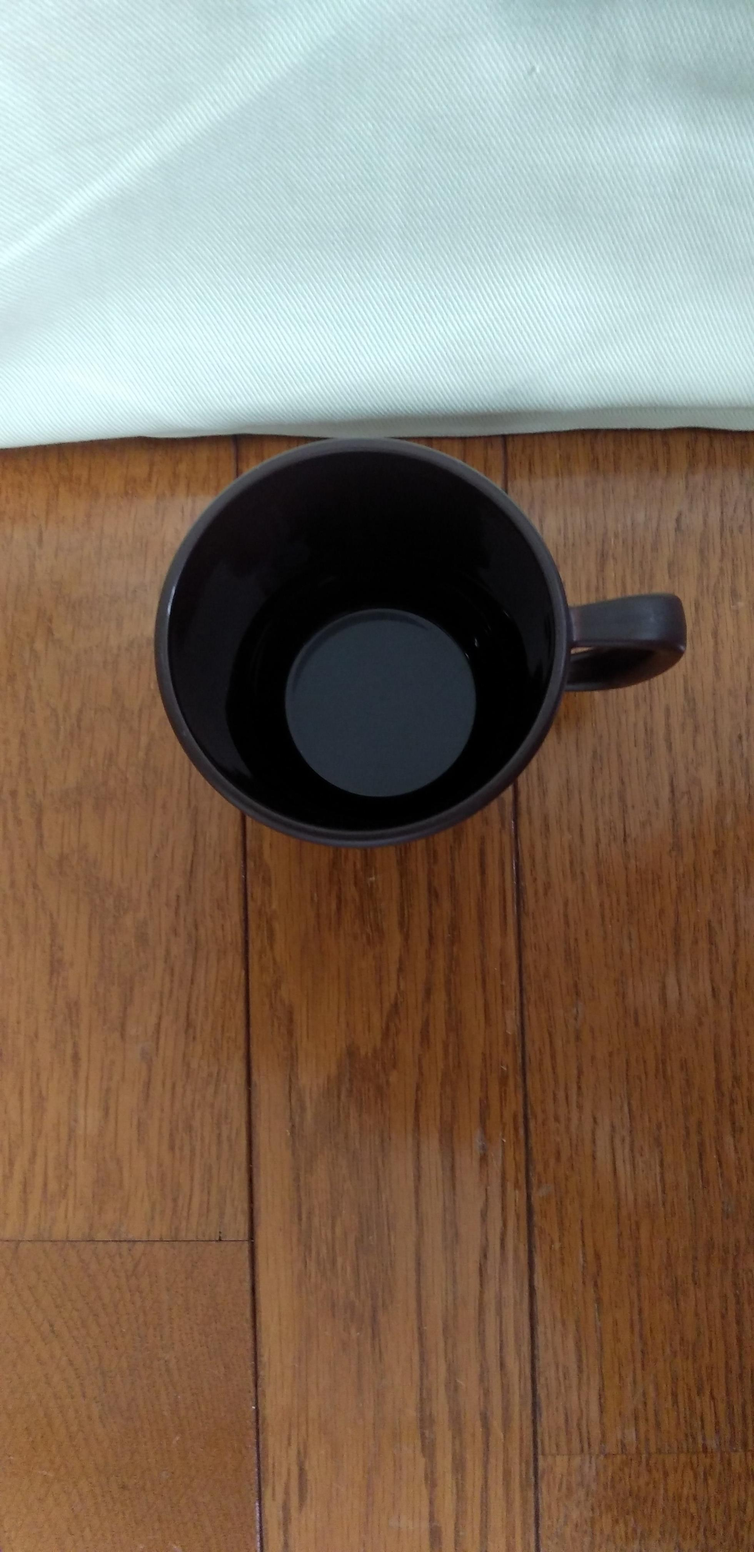mug-real100-3d100: (155, 439, 686, 848)
